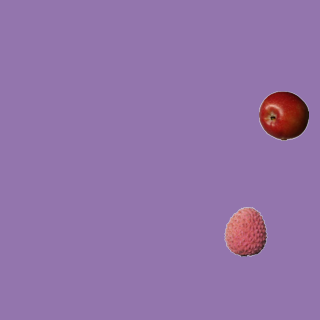Apple Braeburn: (258, 90, 308, 140)
Lychee: (220, 206, 270, 256)
